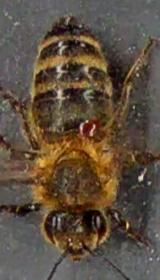varroa_mite: (70, 112, 102, 142)
